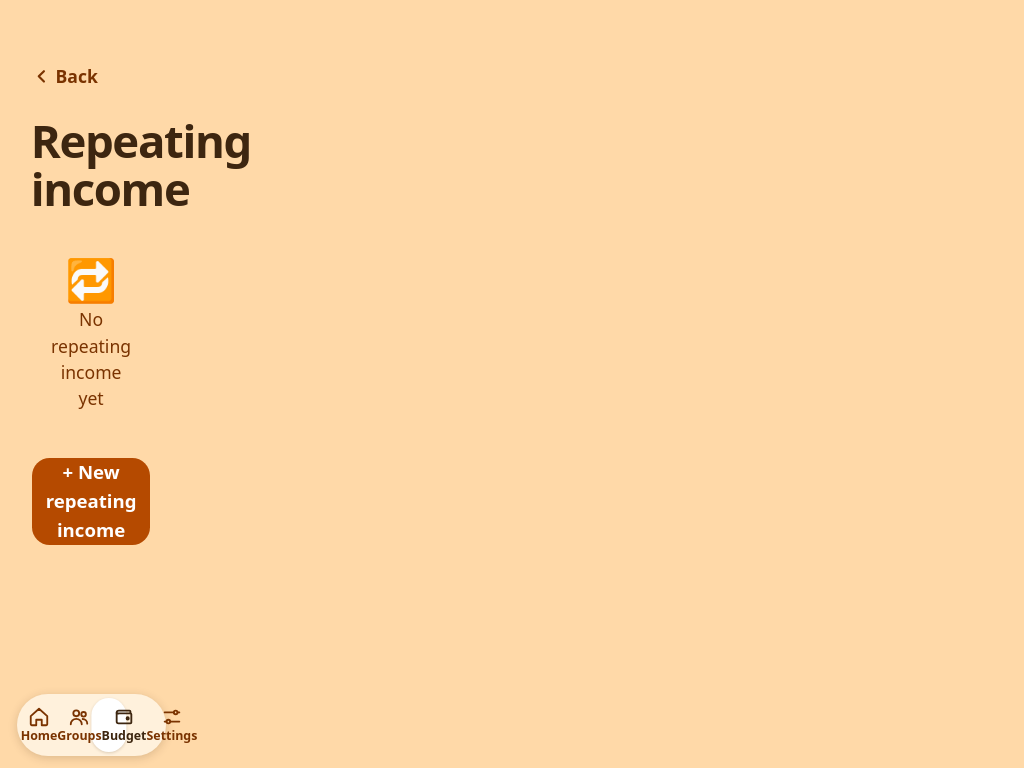
the repeating income screen › "+ New repeating income" › opens the income sheet with Repeats already on Monthly, an Ends chip and the hint
Expected: the text "No repeating income yet" is shown, [51,306,131,412]
Click the button "+ New repeating income" at {"x": 91, "y": 502}, box [31,457,151,546]
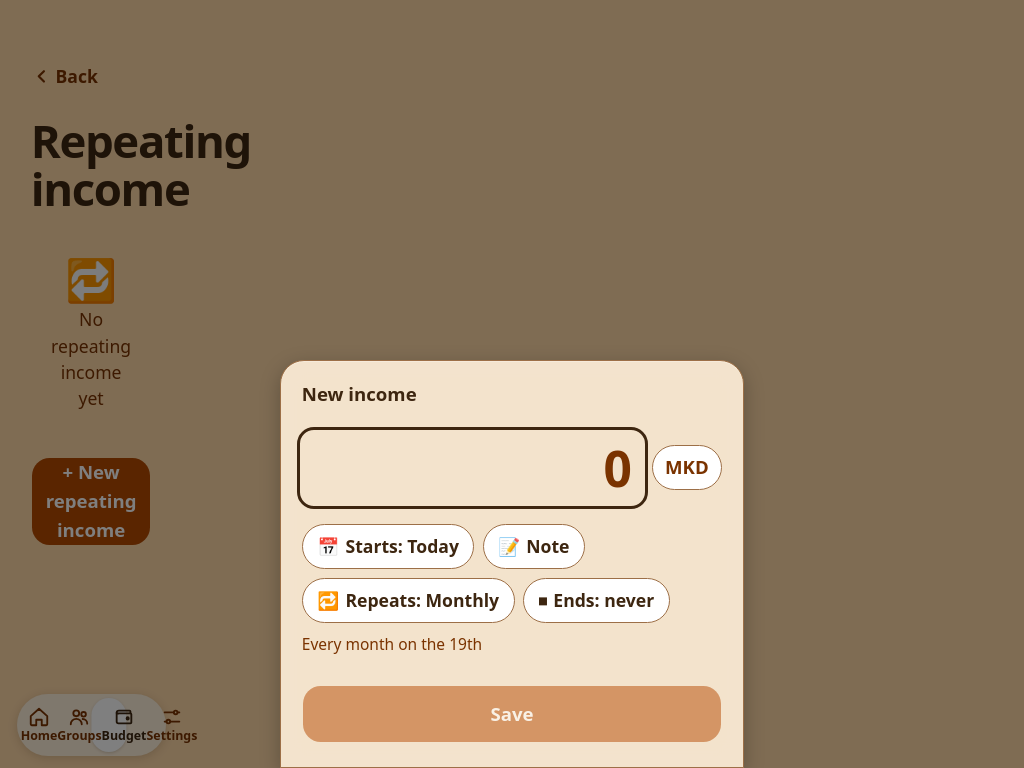
Now the button "🔁 Repeats: Monthly" is shown, box [302,578,514,623]
Now the button "⏹ Ends: never" is shown, box [523,578,670,623]
Now the text "Every month on the 19th" is shown, box [302,633,482,655]
